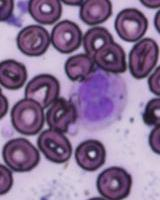M: (70, 66, 128, 130)
